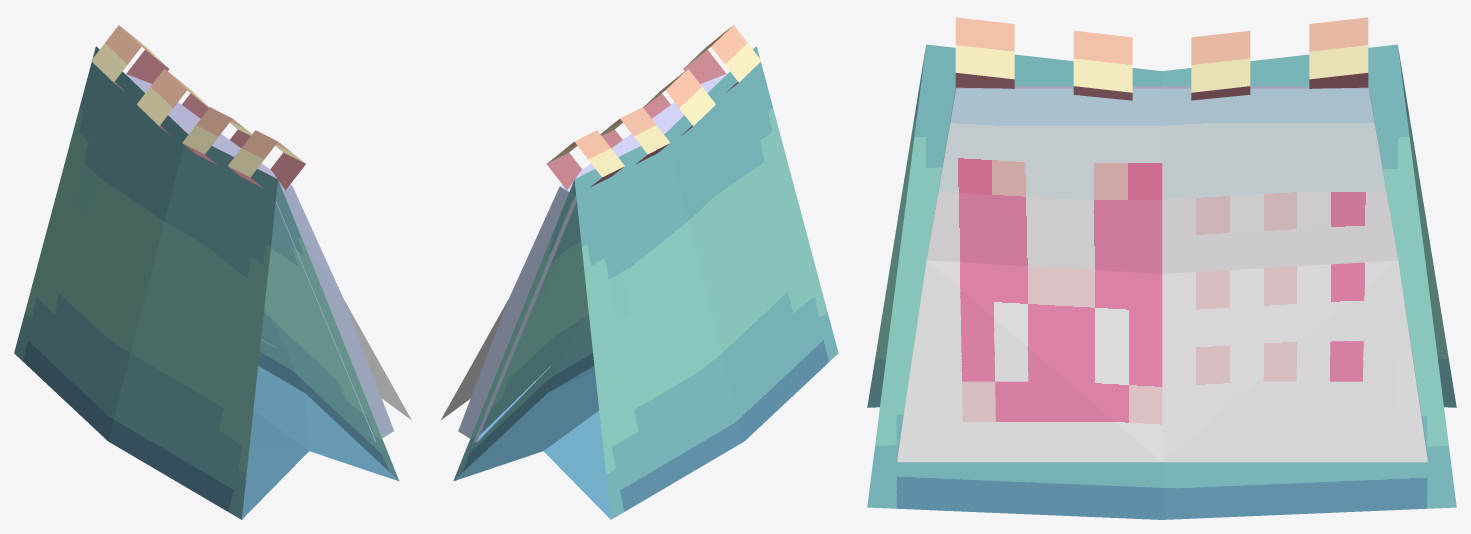
The model's file is calendar.fbx.
The picture shows the model from 3 angles, left to right: view 1: azimuth 30°, elevation 25°; view 2: azimuth 150°, elevation 25°; view 3: azimuth 270°, elevation 25°; orthographic projection. The views are drawn at different scales.
Parts seen in each view (by area): view 1: Calendar; view 2: Calendar; view 3: Calendar.
Part boxes in pixels (x1,y1,x2,y2): Calendar: (14, 25, 411, 519); Calendar: (441, 25, 838, 519); Calendar: (867, 17, 1456, 519).
Bounding box in the file's own units: 31.93 × 51.29 × 62.5.
1 material, 1 textured.
